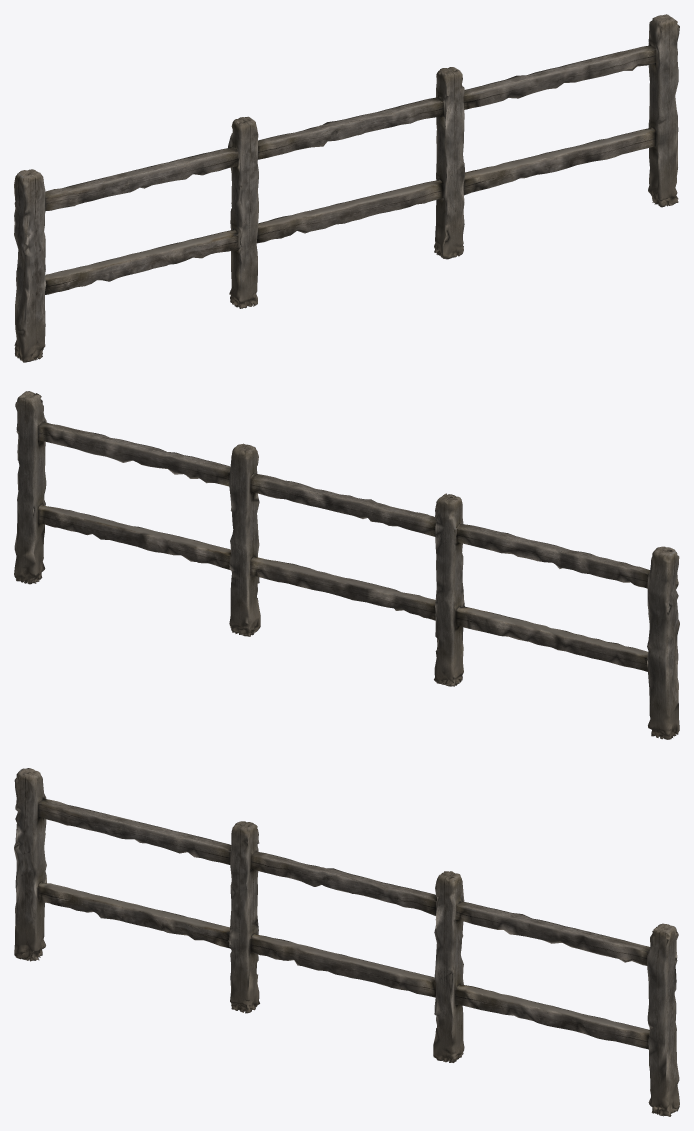
The model's file is des-fence-intact.fbx.
3 views of the same model, one above another, from view 1: azimuth 30°, elevation 25°; view 2: azimuth 150°, elevation 25°; view 3: azimuth 330°, elevation 25° (orthographic).
Visible parts, largest first — view 1: Mesh_0; view 2: Mesh_0; view 3: Mesh_0.
Boxes of the visible parts, x1,y1,x2,y2 form: Mesh_0: [14, 14, 679, 362]; Mesh_0: [14, 391, 679, 739]; Mesh_0: [14, 768, 679, 1116].
Size of the model in its own units: 95.75 by 25.78 by 3.47.
Materials: 1 (1 with a texture image).
